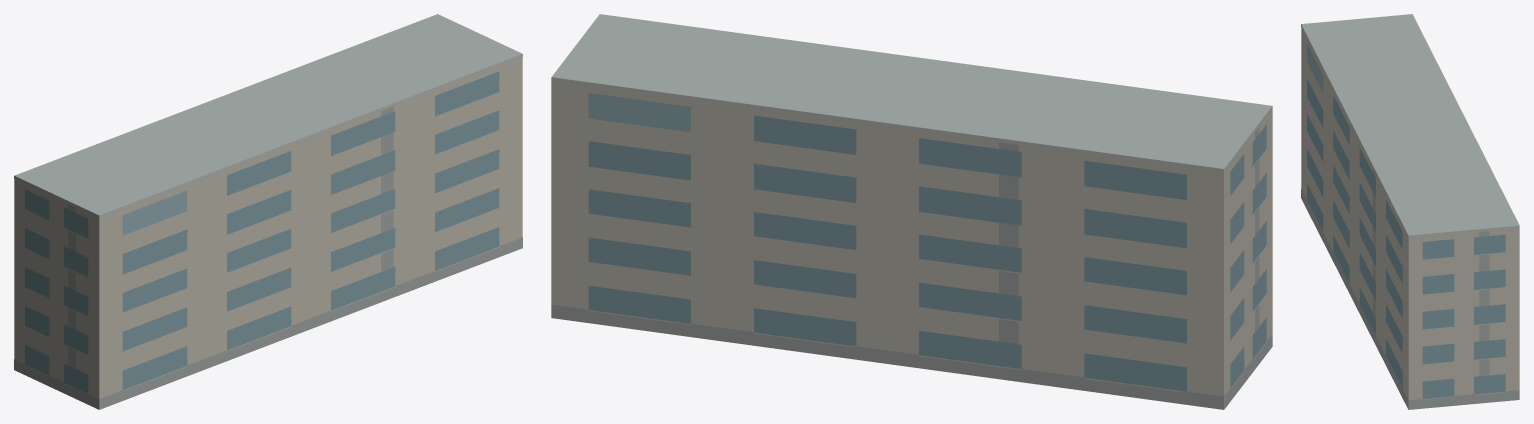
Rendered from residential-ad2b085d-c2c8-4be5-9d9f-0de4e1ebcc00.glb.
The picture shows the model from 3 angles, left to right: view 1: azimuth 30°, elevation 25°; view 2: azimuth 150°, elevation 25°; view 3: azimuth 270°, elevation 25°; orthographic projection. The views are drawn at different scales.
Visible parts, largest first — view 1: residential-ad2b085d-c2c8-4be5-9d9f-0de4e1ebcc00.tmp; view 2: residential-ad2b085d-c2c8-4be5-9d9f-0de4e1ebcc00.tmp; view 3: residential-ad2b085d-c2c8-4be5-9d9f-0de4e1ebcc00.tmp.
Boxes of the visible parts, x1=… form: residential-ad2b085d-c2c8-4be5-9d9f-0de4e1ebcc00.tmp: x1=14, y1=14, x2=522, y2=409; residential-ad2b085d-c2c8-4be5-9d9f-0de4e1ebcc00.tmp: x1=551, y1=14, x2=1272, y2=409; residential-ad2b085d-c2c8-4be5-9d9f-0de4e1ebcc00.tmp: x1=1301, y1=14, x2=1519, y2=409.
Size of the model in its own units: 41.57 by 15.25 by 17.33.
